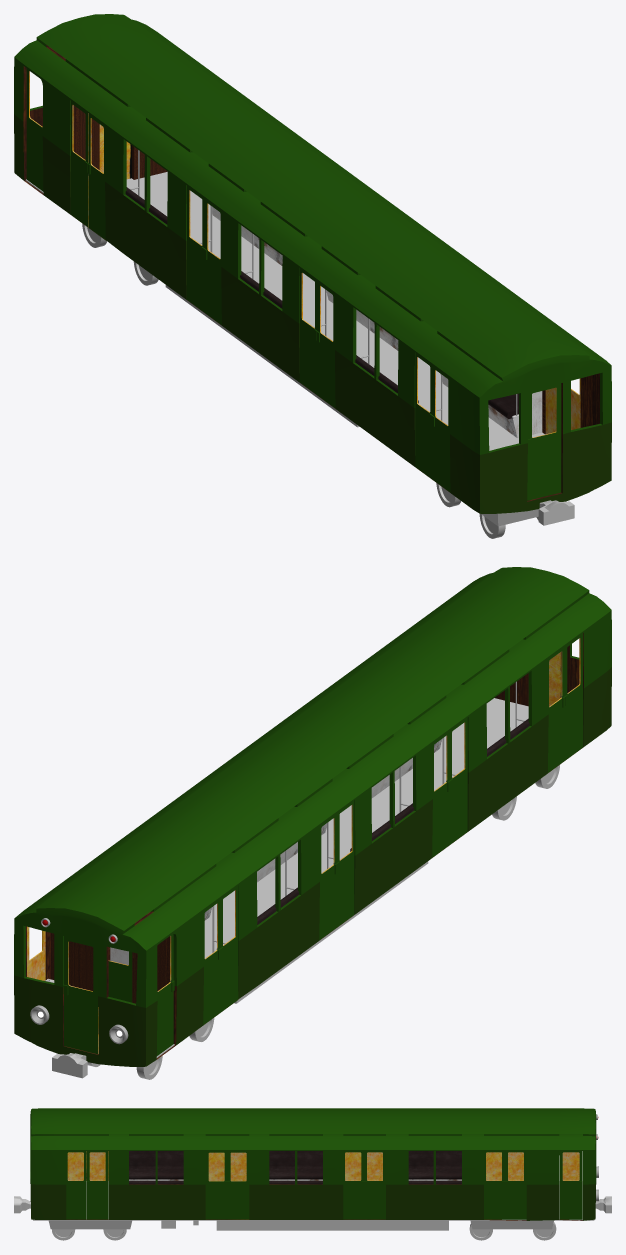
Rendered from MetrowagonAlike_post_release_2.gltf.
3 views of the same model, one above another, from view 1: azimuth 30°, elevation 25°; view 2: azimuth 150°, elevation 25°; view 3: azimuth 270°, elevation 25° (orthographic). The views are drawn at different scales.
Parts seen in each view (by area): view 1: MetrowagonA_wagon, Cube.001, Door.016, Door.012, Door.013, Door.014, Door.011, Door.008, Cube, Door.015, Door.009, Door.010 (+3 smaller); view 2: MetrowagonA_wagon, Cube.001, Door.017, Cube, Door.009, Door.013, Door.014, Door.010, Door.011, Door.012, Door.008, Door.015 (+3 smaller); view 3: MetrowagonA_wagon, Bogey.003, Seat.004, Seat.005, Seat.002, Door.019, Door, Door.001, Door.002, Door.005, Door.006, Door.003 (+23 smaller).
Boxes of the visible parts, left/top/right/bottom form: MetrowagonA_wagon: left=14, top=14, right=611, bottom=513; Cube.001: left=25, top=172, right=544, bottom=450; Door.016: left=527, top=383, right=561, bottom=500; Door.012: left=299, top=268, right=317, bottom=394; Door.013: left=316, top=281, right=335, bottom=408; Door.014: left=431, top=365, right=450, bottom=492; Door.011: left=187, top=186, right=204, bottom=312; Door.008: left=71, top=101, right=88, bottom=227; Cube: left=73, top=105, right=167, bottom=179; Door.015: left=415, top=353, right=432, bottom=479; Door.009: left=87, top=113, right=106, bottom=240; Door.010: left=204, top=199, right=221, bottom=325; MetrowagonA_wagon: left=14, top=567, right=611, bottom=1066; Cube.001: left=15, top=698, right=528, bottom=1057; Door.017: left=63, top=936, right=98, bottom=1054; Cube: left=50, top=933, right=169, bottom=1003; Door.009: left=220, top=885, right=238, bottom=1012; Door.013: left=449, top=718, right=467, bottom=844; Door.014: left=565, top=633, right=582, bottom=760; Door.010: left=337, top=801, right=354, bottom=927; Door.011: left=319, top=813, right=337, bottom=940; Door.012: left=432, top=731, right=450, bottom=857; Door.008: left=203, top=899, right=221, bottom=1025; Door.015: left=548, top=646, right=565, bottom=772; MetrowagonA_wagon: left=30, top=1108, right=596, bottom=1220; Bogey.003: left=216, top=1220, right=448, bottom=1230; Seat.004: left=129, top=1151, right=183, bottom=1179; Seat.005: left=269, top=1151, right=322, bottom=1179; Seat.002: left=408, top=1151, right=461, bottom=1179; Door.019: left=559, top=1151, right=582, bottom=1219; Door: left=205, top=1151, right=227, bottom=1219; Door.001: left=227, top=1151, right=249, bottom=1219; Door.002: left=87, top=1151, right=108, bottom=1219; Door.005: left=364, top=1151, right=385, bottom=1219; Door.006: left=505, top=1151, right=526, bottom=1219; Door.003: left=66, top=1151, right=86, bottom=1219.
Size of the model in its own units: 3.88 by 5.29 by 24.71.
